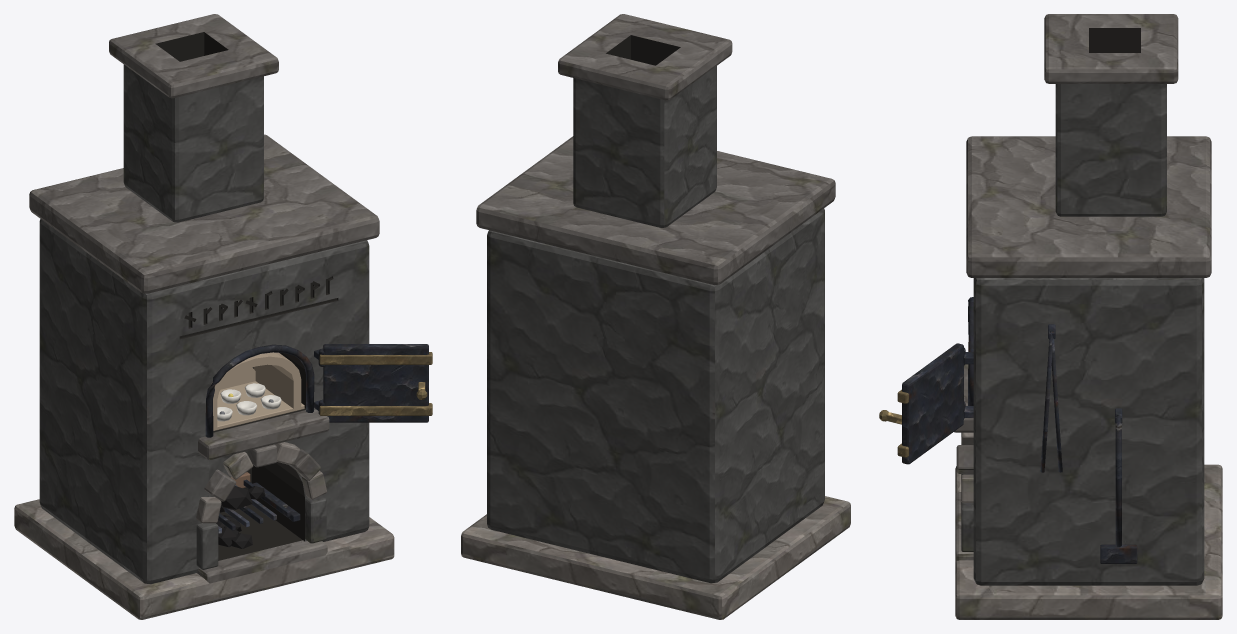
The model's file is bv_assay_furnace.glb.
3 views of the same model, side by side, from view 1: azimuth 30°, elevation 25°; view 2: azimuth 150°, elevation 25°; view 3: azimuth 270°, elevation 25° (orthographic). The views are drawn at different scales.
Parts seen in each view (by area): view 1: model; view 2: model; view 3: model.
Part boxes in pixels (x1=…): model: x1=14, y1=14, x2=432, y2=619; model: x1=461, y1=14, x2=850, y2=619; model: x1=879, y1=14, x2=1222, y2=619.
Size of the model in its own units: 0.8824 by 1.53 by 0.9247.
Materials: 14 (8 with a texture image).
